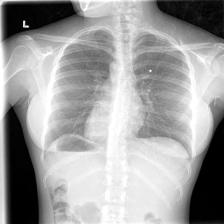normal: (40, 26, 196, 162)
